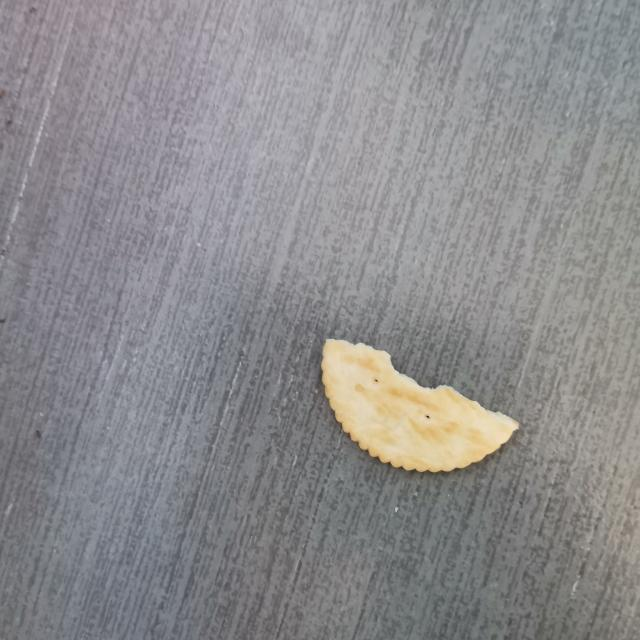Broken: (320, 336, 520, 473)
